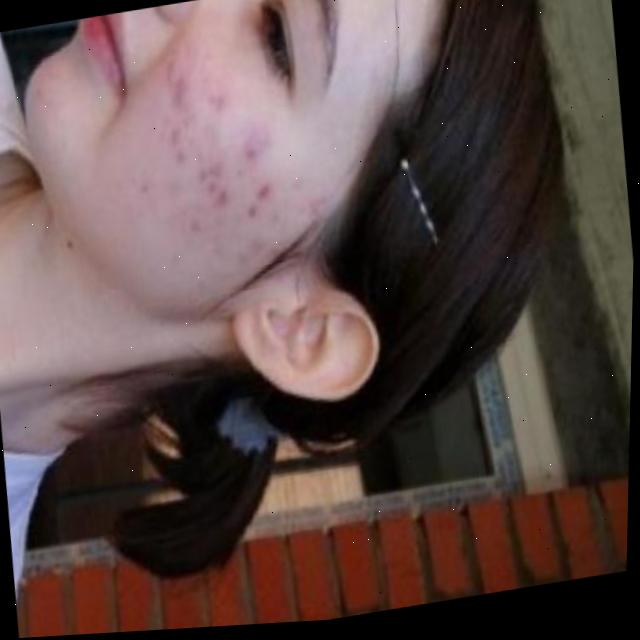Acne: (106, 58, 289, 274)
